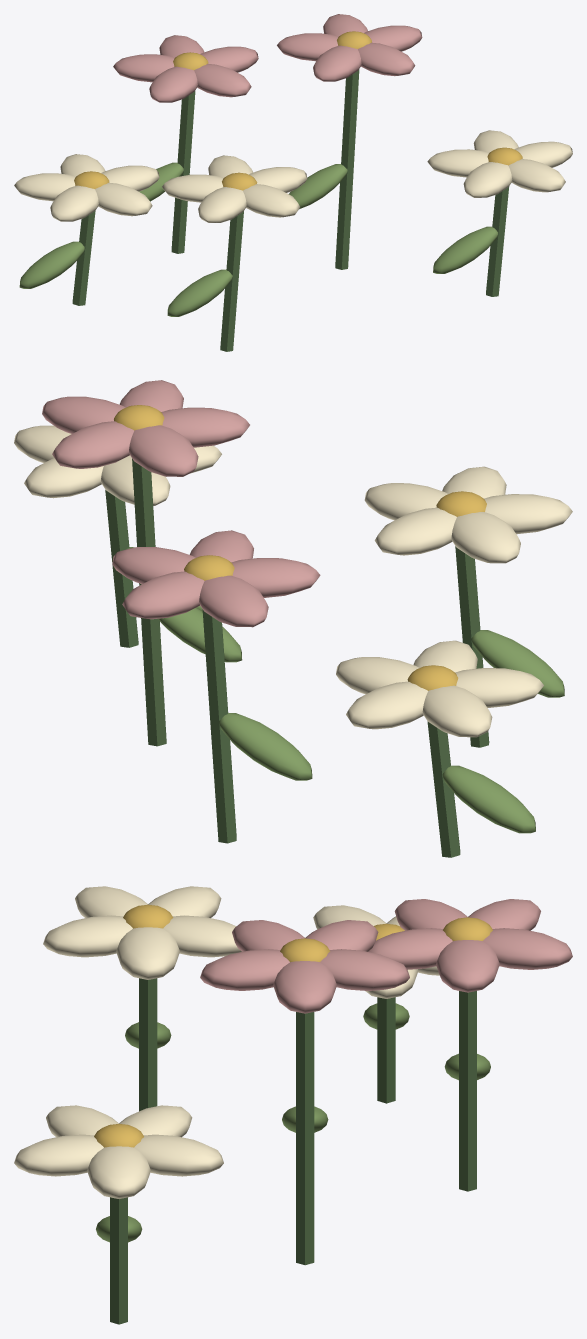
Rendered from flower-patch.glb.
The picture shows the model from 3 angles, top to bottom: view 1: azimuth 30°, elevation 25°; view 2: azimuth 150°, elevation 25°; view 3: azimuth 270°, elevation 25°; orthographic projection. The views are drawn at different scales.
Visible parts, largest first — view 1: flower-patch-runtime; view 2: flower-patch-runtime; view 3: flower-patch-runtime.
Boxes of the visible parts, bbox=[...] form: flower-patch-runtime: bbox=[14, 14, 572, 351]; flower-patch-runtime: bbox=[14, 380, 572, 857]; flower-patch-runtime: bbox=[14, 886, 572, 1324].
Size of the model in its own units: 1.29 by 0.6221 by 0.9614.
